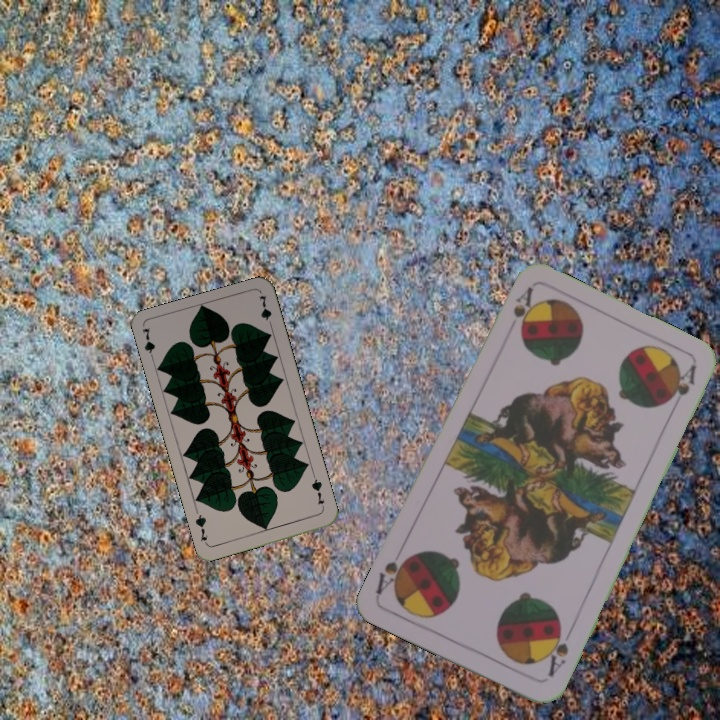G7: (307, 472, 327, 512), (138, 324, 157, 364)
SA: (541, 622, 571, 680), (509, 283, 536, 335)
